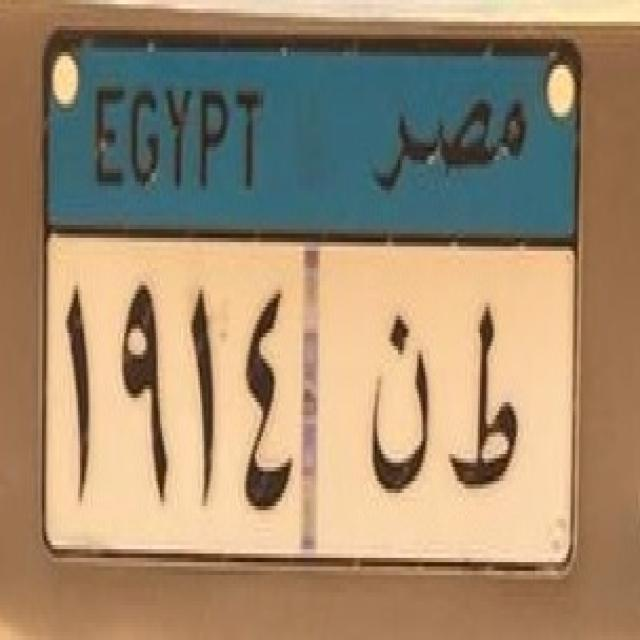1: (50, 276, 114, 524), (180, 280, 231, 522)
4: (231, 283, 303, 519)
9: (111, 282, 181, 516)
Noon: (362, 302, 438, 508)
Taa: (442, 302, 532, 505)
